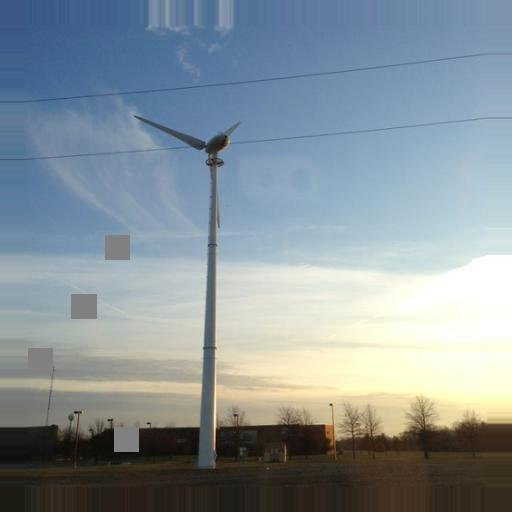wind turbine: (131, 111, 245, 470)
